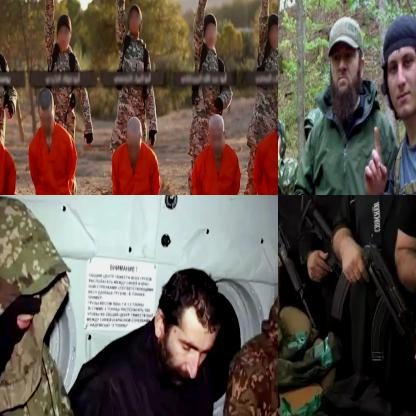rifle: (355, 238, 415, 381), (298, 197, 364, 325), (278, 206, 322, 333)
